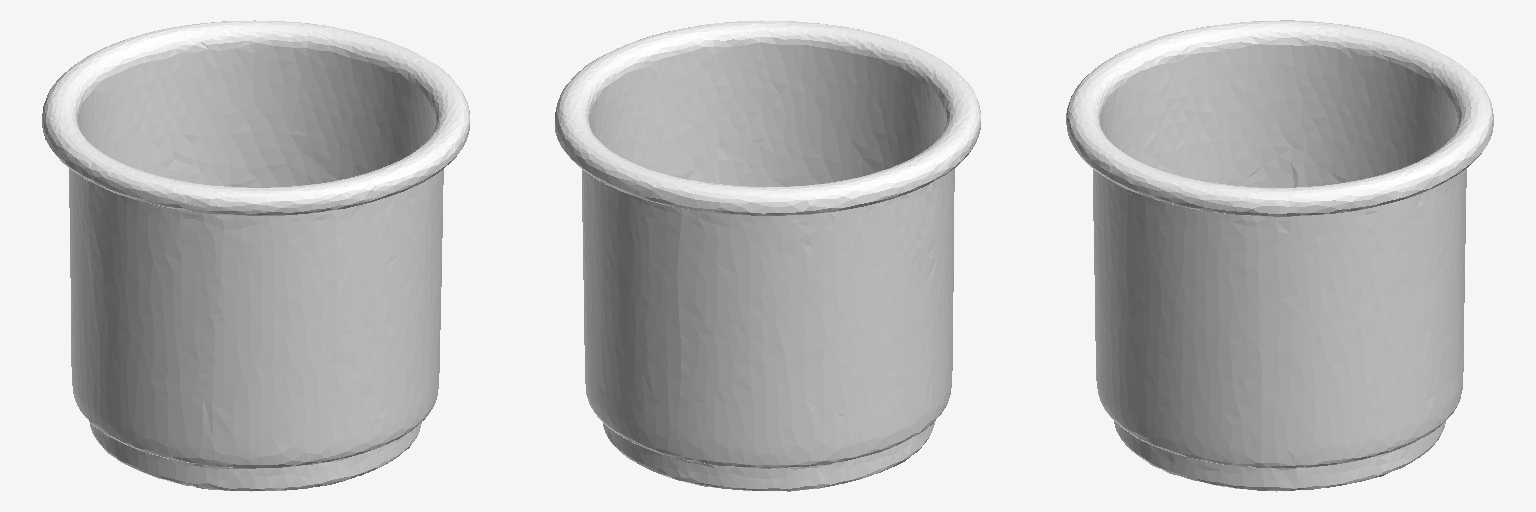
The robot description file, URDF, robot "065-g_cups":
<robot name="065-g_cups">
	<link name="_name">
		<visual>
			<origin xyz="-0.12934602057724176 -0.28094809623552286 -0.3487435287003049" rpy="0 0 0" />
			<geometry>
				<mesh filename="065-g_cups/google_16k/textured.obj" scale="10 10 10" />
			</geometry>
			<material name="texture">
				<color rgba="1.0 1.0 1.0 1.0" />
			</material>
		</visual>
		<collision>
			<geometry>
				<mesh filename="065-g_cups/google_16k/textured_vhacd.obj" scale="10 10 10" />
			</geometry>
		<origin xyz="-0.12934602057724176 -0.28094809623552286 -0.3487435287003049" rpy="0 0 0" /></collision>
		<inertial>
			<mass value="1.0" />
			<inertia ixx="1.0" ixy="0.0" ixz="0.0" iyy="1.0" iyz="0.0" izz="1.0" />
		</inertial>
	</link>
</robot>

--- Facts derived from the render (not from the file) ---
Views: 3 orthographic renders of the robot side by side, from view 1: azimuth 30°, elevation 25°; view 2: azimuth 150°, elevation 25°; view 3: azimuth 270°, elevation 25°.
Model 065-g_cups with 1 links and 0 joints (none), rooted at _name, posed all joints at 0.
Links seen in each view (by area): view 1: _name; view 2: _name; view 3: _name.
Link boxes in pixels (<box>): _name: <box>42,20,469,491</box>; _name: <box>555,20,980,491</box>; _name: <box>1066,20,1493,491</box>.
Bounding box of the posed robot: 0.915 × 0.9162 × 0.7506 m (x, y, z).
1 mesh visuals loaded from 1 distinct referenced files (1 OBJ).